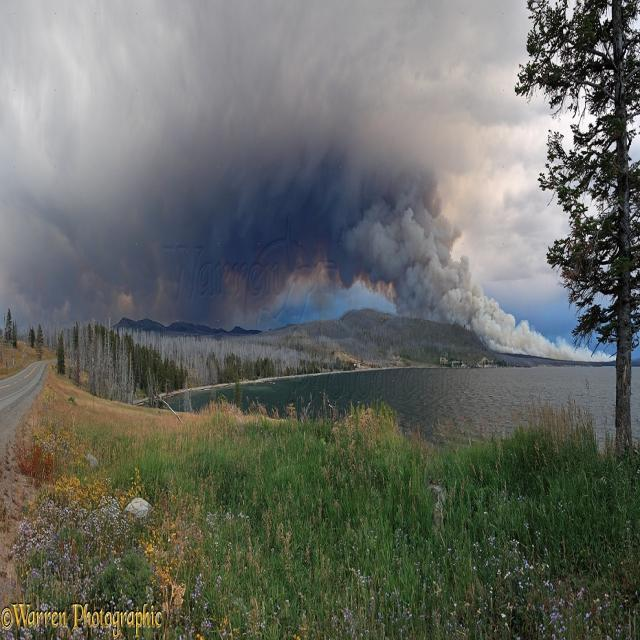Smoke: (0, 0, 632, 365)
